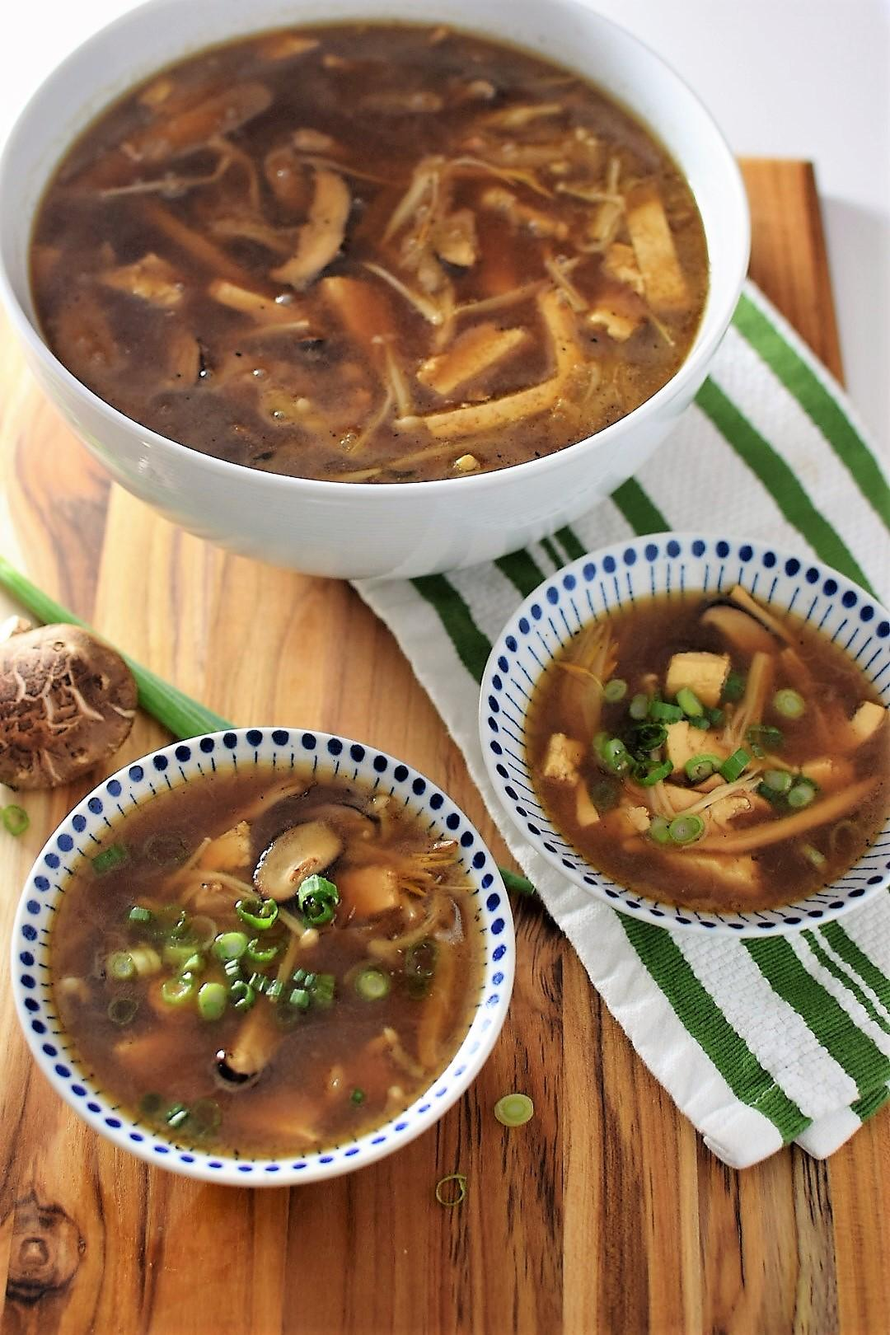Braised Crucian Carp: (2, 4, 742, 562), (9, 736, 506, 1191), (475, 543, 875, 930)
